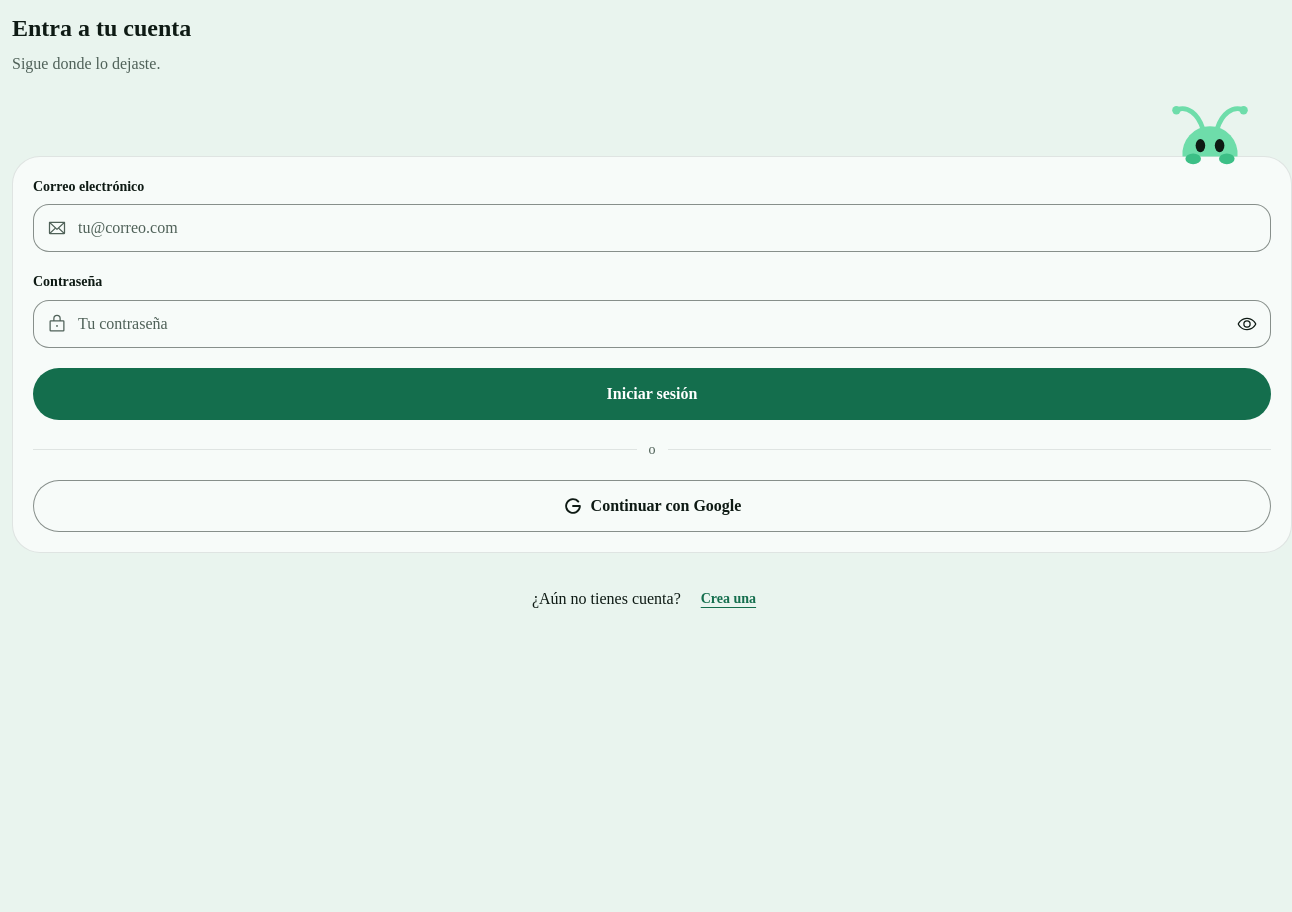
LoginForm: validation and field wiring › shows both fields invalid and wired to their errors when it is sent empty
This screenshot has width=1292, height=912.
Click the button "Iniciar sesión": click(652, 394) [33,368,1271,420]
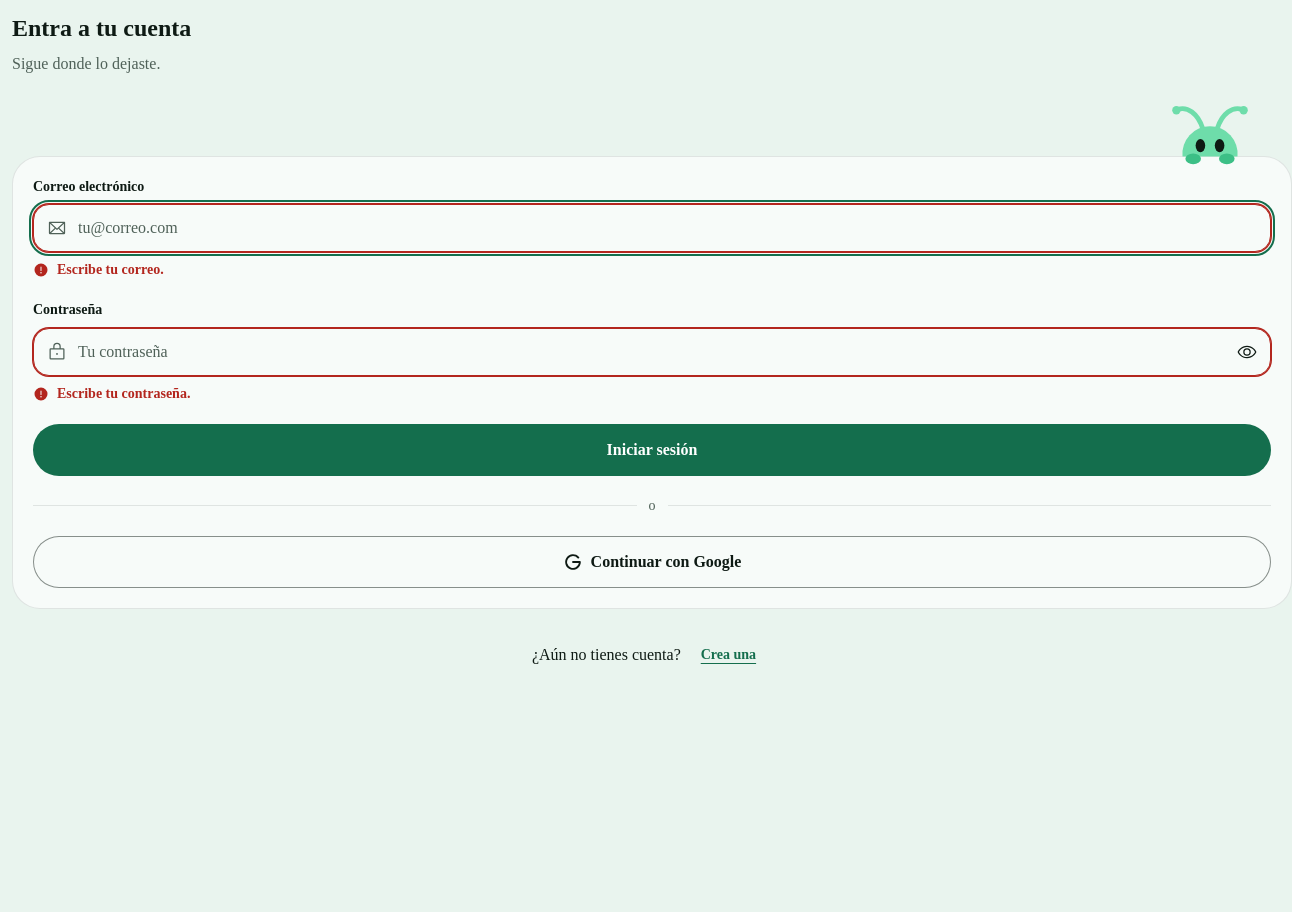
Result: the number of messages is 2 at [33,262,164,278]; [33,386,190,402]
Result: the message "Escribe tu correo." is shown at [33,262,164,278]
Result: the message "Escribe tu contraseña." is shown at [33,386,190,402]
